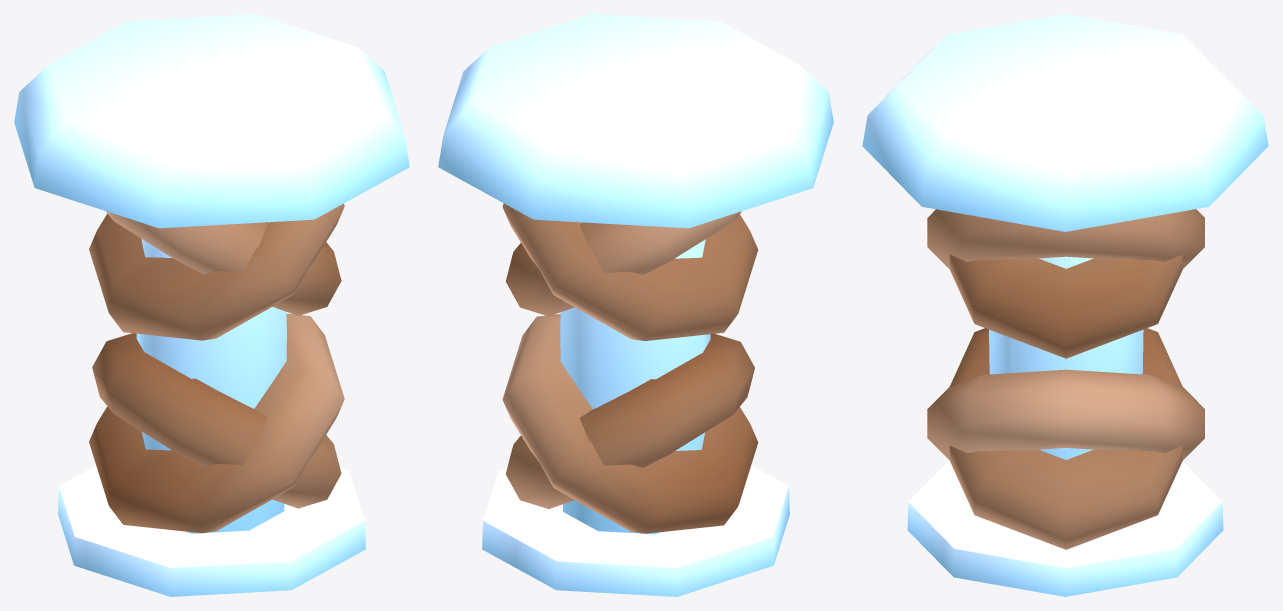
Rendered from steel_grip_038.glb.
The picture shows the model from 3 angles, left to right: view 1: azimuth 30°, elevation 25°; view 2: azimuth 150°, elevation 25°; view 3: azimuth 270°, elevation 25°; orthographic projection.
Visible parts, largest first — view 1: steel_grip_038; view 2: steel_grip_038; view 3: steel_grip_038.
Part boxes in pixels (<box>): steel_grip_038: <box>14,14,409,596</box>; steel_grip_038: <box>438,14,833,596</box>; steel_grip_038: <box>862,14,1268,596</box>.
Bounding box in the file's own units: 2.62 × 3.16 × 2.62.
Materials: 1 (1 with a texture image).
